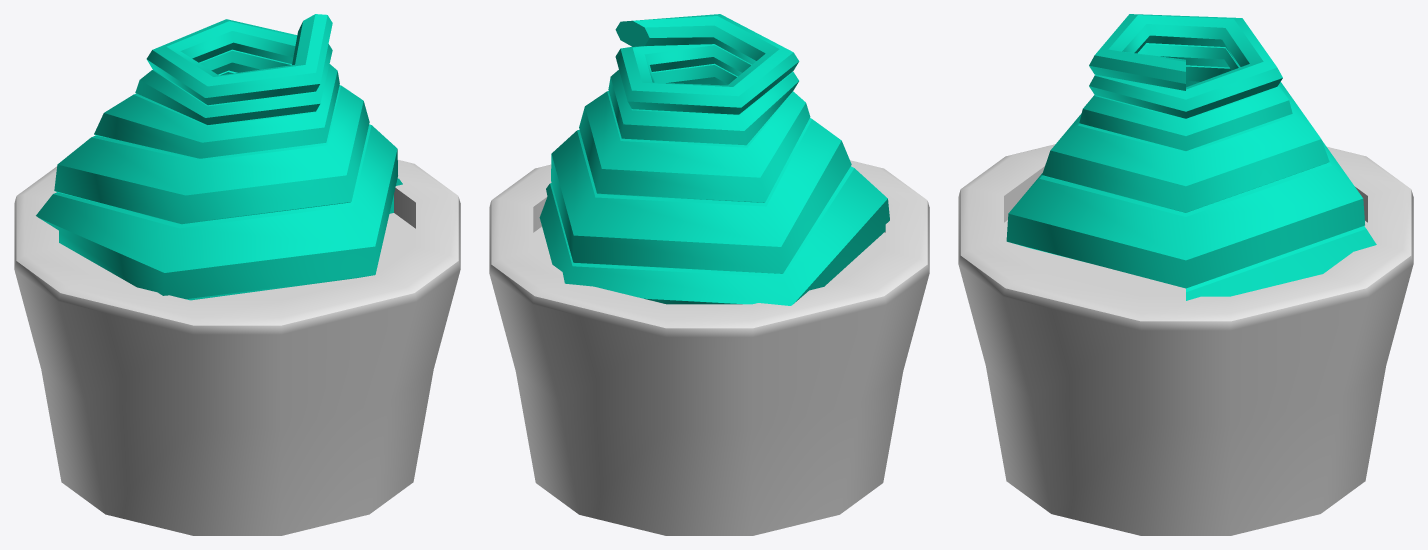
The model's file is Cupcake.fbx.
3 renders of one model, left to right at view 1: azimuth 30°, elevation 25°; view 2: azimuth 150°, elevation 25°; view 3: azimuth 270°, elevation 25°, orthographic. The views are drawn at different scales.
Visible parts, largest first — view 1: polySurface4, polySurface5; view 2: polySurface4, polySurface5; view 3: polySurface4, polySurface5.
Part boxes in pixels (<box>): polySurface4: <box>14,160,460,535</box>; polySurface5: <box>36,14,402,300</box>; polySurface4: <box>489,160,929,535</box>; polySurface5: <box>539,14,889,305</box>; polySurface4: <box>958,144,1413,535</box>; polySurface5: <box>1006,14,1376,300</box>.
Bounding box in the file's own units: 2.28 × 2.32 × 2.2.
